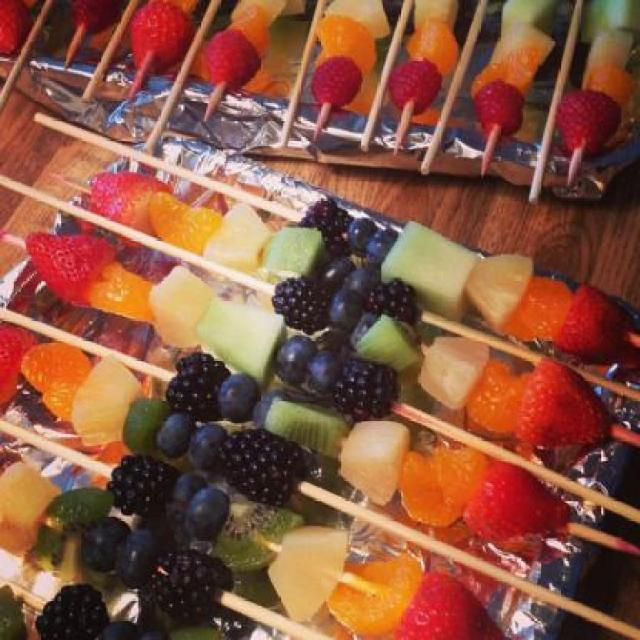Strawberry: (13, 222, 121, 320), (516, 358, 615, 449), (467, 460, 575, 542), (392, 570, 506, 638), (554, 284, 631, 370), (90, 171, 168, 246), (127, 0, 196, 77), (550, 92, 618, 160), (205, 30, 262, 96), (468, 81, 524, 137), (312, 52, 366, 108), (388, 57, 439, 116), (0, 324, 35, 401), (0, 0, 35, 57), (68, 0, 123, 35)
